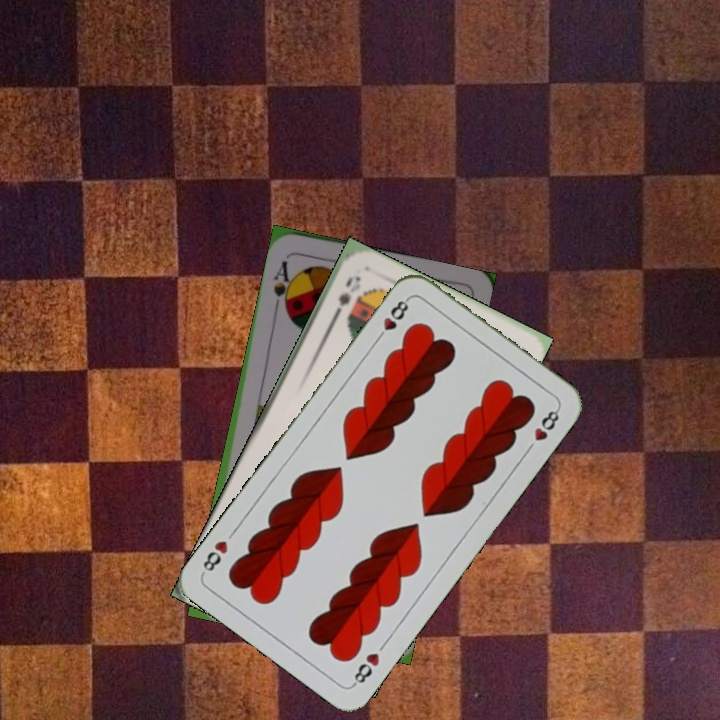H8: (371, 294, 412, 345), (349, 648, 382, 689)
SA: (269, 256, 297, 314)
SO: (327, 272, 364, 324)
